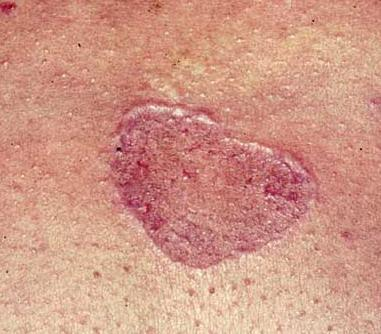annular lichen planus: (91, 67, 356, 300)
